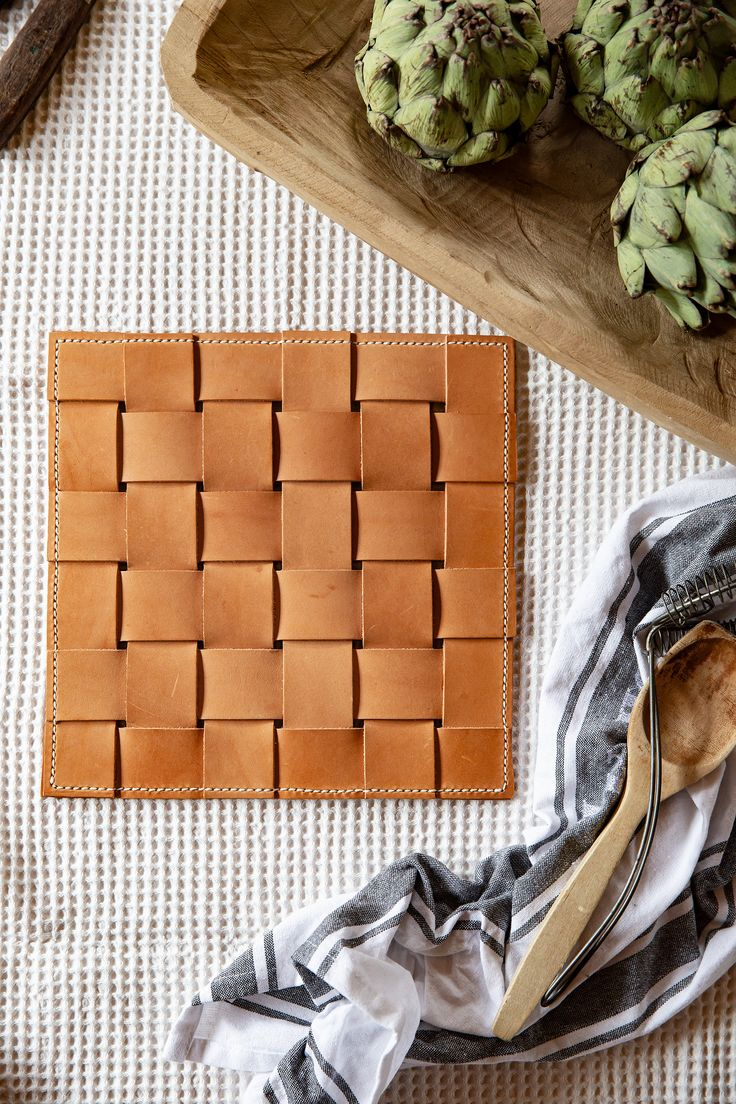cuero: (46, 328, 518, 799)
